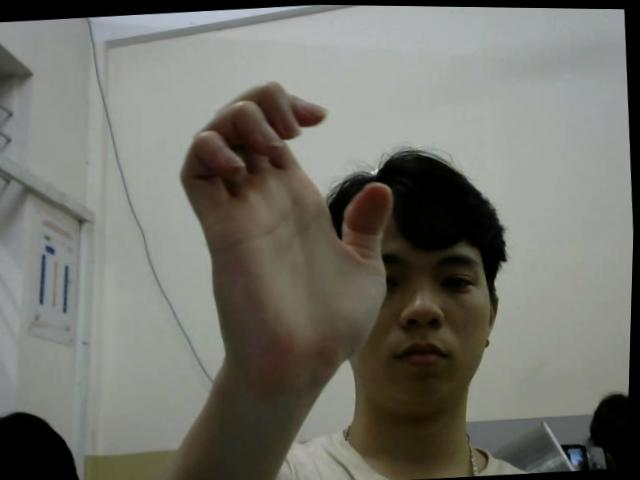E: (167, 67, 410, 396)
